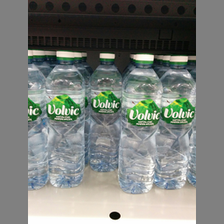water: (119, 53, 162, 195), (44, 50, 86, 187), (158, 54, 195, 190), (86, 52, 119, 172), (28, 49, 47, 190)
